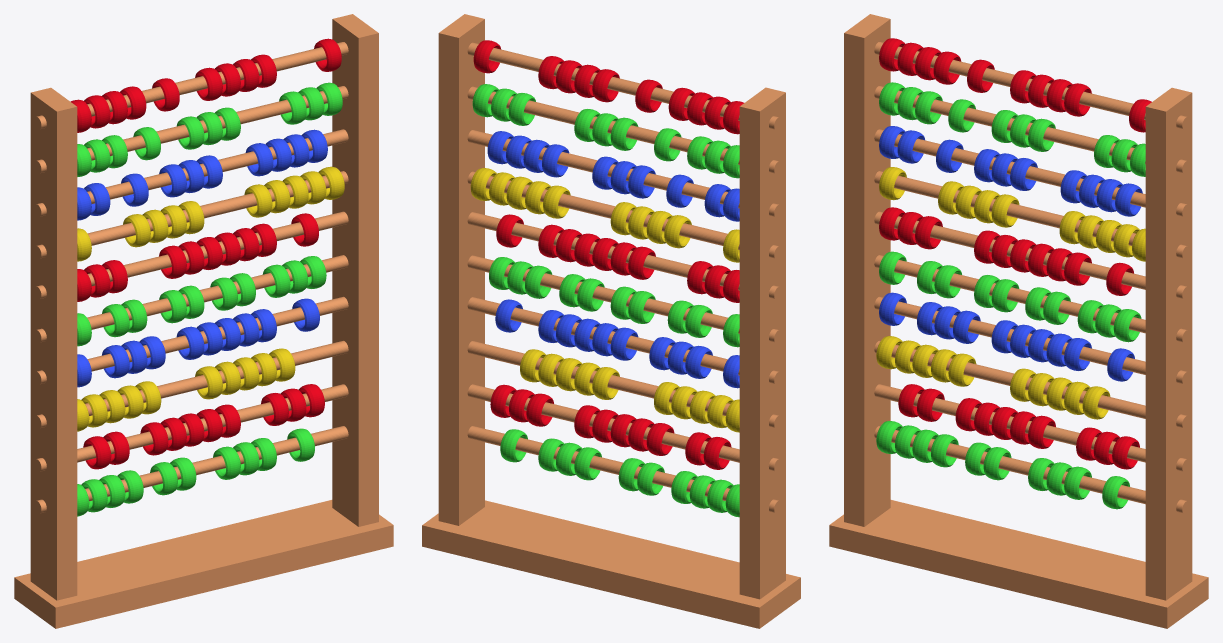
File: liczydlo.fbx
The picture shows the model from 3 angles, left to right: view 1: azimuth 30°, elevation 25°; view 2: azimuth 150°, elevation 25°; view 3: azimuth 330°, elevation 25°; orthographic projection.
Parts seen in each view (by area): view 1: Torus.038; view 2: Torus.038; view 3: Torus.038.
Boxes of the visible parts, x1,y1,x2,y2 form: Torus.038: (14,14,393,628); Torus.038: (422,14,800,628); Torus.038: (829,14,1208,628).
Bounding box in the file's own units: 612 × 882 × 130.
